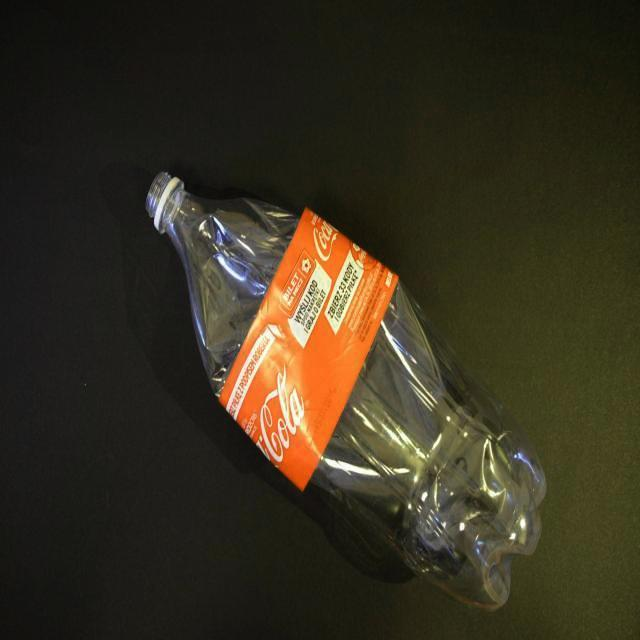bottle: (144, 171, 548, 612)
